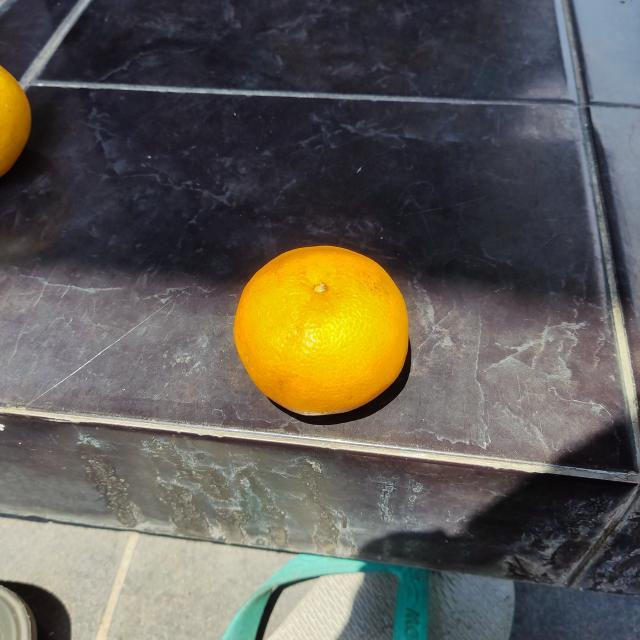orange: (232, 244, 411, 418)
